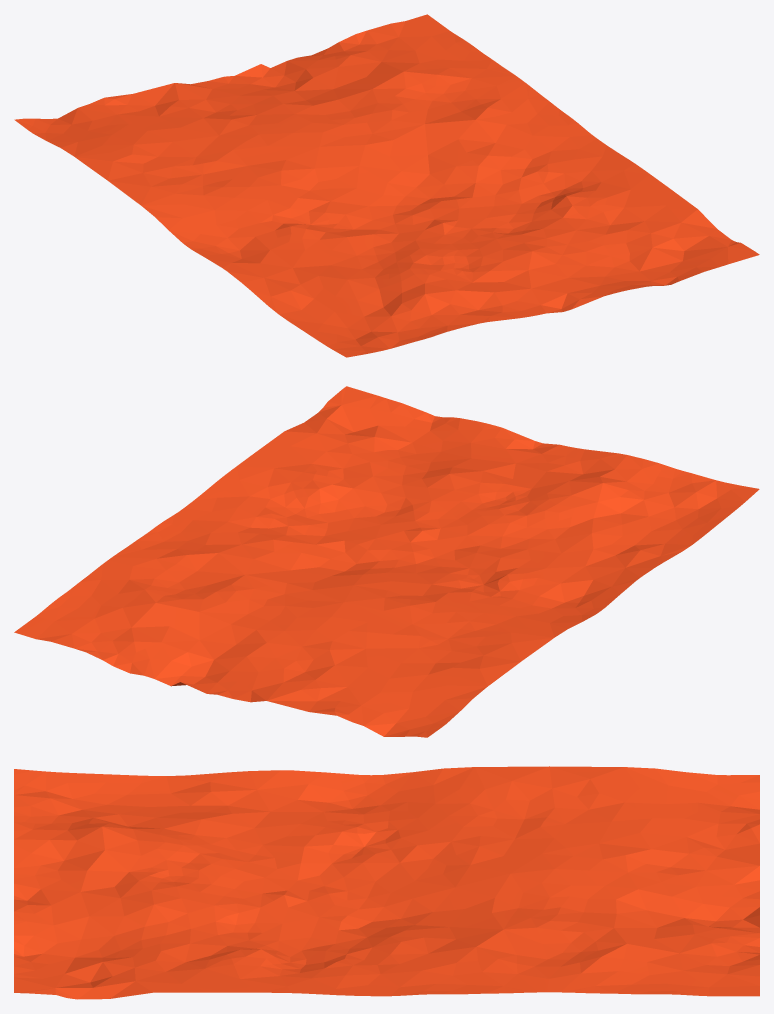
Rendered from ground_036.fbx.
3 views of the same model, one above another, from view 1: azimuth 30°, elevation 25°; view 2: azimuth 150°, elevation 25°; view 3: azimuth 270°, elevation 25° (orthographic). The views are drawn at different scales.
Visible parts, largest first — view 1: ground.036; view 2: ground.036; view 3: ground.036.
Part boxes in pixels (bbox=[...]): ground.036: bbox=[14, 14, 759, 357]; ground.036: bbox=[14, 386, 759, 737]; ground.036: bbox=[14, 766, 759, 999].
Bounding box in the file's own units: 2542 × 140 × 3540.
Materials: 1 (1 with a texture image).
